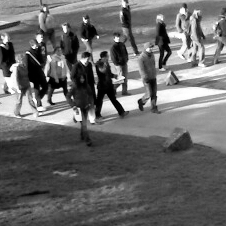person: (94, 51, 129, 119), (66, 73, 93, 147), (10, 53, 39, 118), (25, 38, 48, 112), (138, 42, 161, 114), (47, 46, 69, 105), (110, 33, 130, 96), (70, 51, 96, 97), (119, 1, 140, 56), (189, 9, 208, 67), (154, 14, 172, 70), (1, 32, 16, 94), (176, 3, 191, 60), (59, 21, 78, 62), (38, 4, 56, 47), (80, 14, 100, 52), (213, 8, 226, 64), (35, 28, 48, 70)
